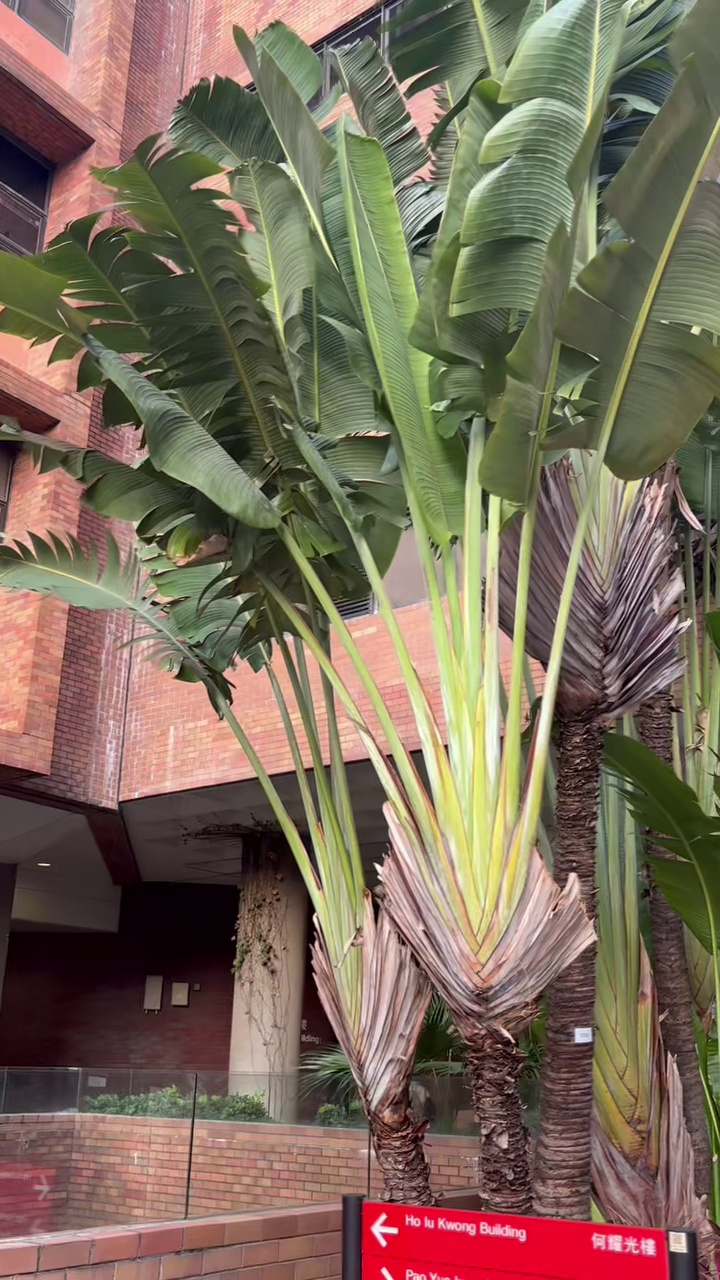Travellers-tree: (0, 0, 628, 1211)
